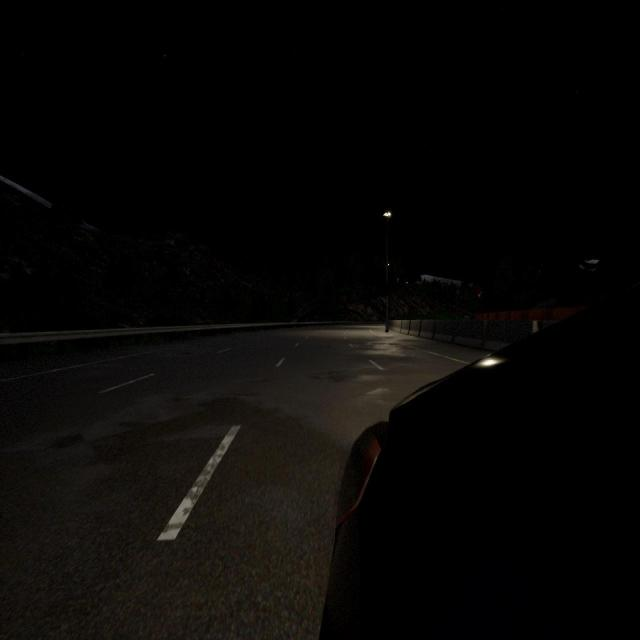Vehicle: (320, 285, 640, 637)
